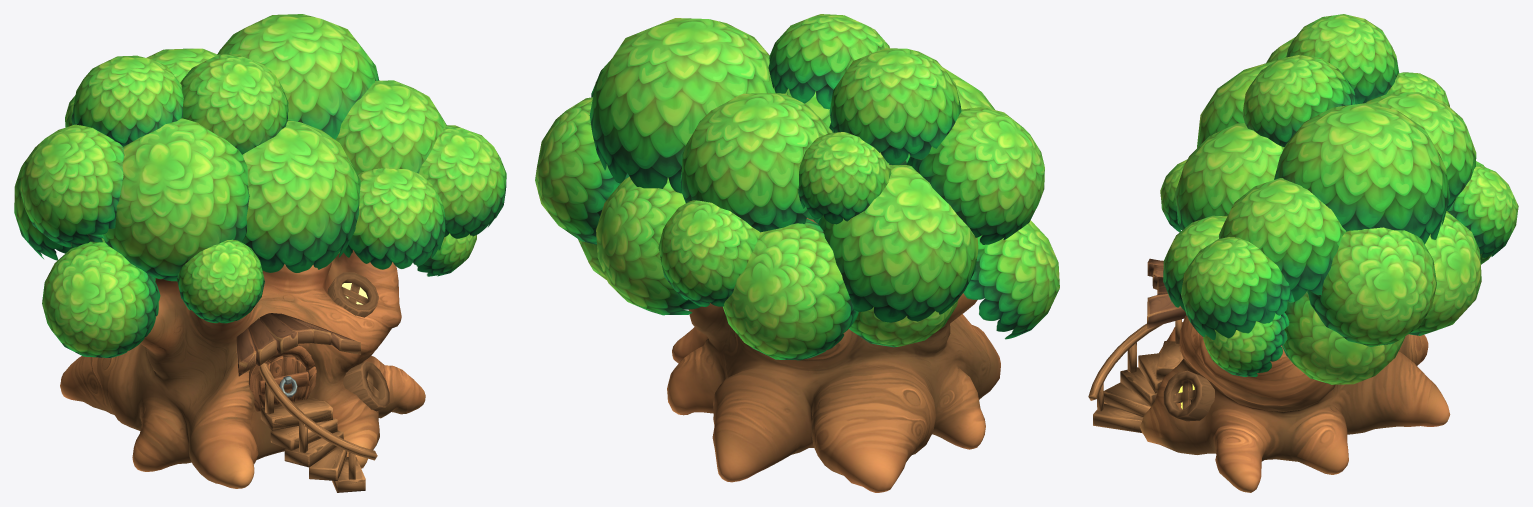
File: treehouse.glb
3 views of the same model, side by side, from view 1: azimuth 30°, elevation 25°; view 2: azimuth 150°, elevation 25°; view 3: azimuth 270°, elevation 25° (orthographic). The views are drawn at different scales.
Parts seen in each view (by area): view 1: Object_7, Object_3, Object_6, Object_2, Object_8, Object_5; view 2: Object_7, Object_3; view 3: Object_7, Object_3, Object_6, Object_8, Object_2.
Boxes of the visible parts, x1=… form: Object_7: x1=14, y1=14, x2=506, y2=357; Object_3: x1=60, y1=250, x2=425, y2=488; Object_6: x1=259, y1=363, x2=377, y2=492; Object_2: x1=236, y1=313, x2=360, y2=376; Object_8: x1=327, y1=272, x2=389, y2=411; Object_5: x1=248, y1=345, x2=316, y2=411; Object_7: x1=535, y1=14, x2=1059, y2=360; Object_3: x1=667, y1=218, x2=1000, y2=492; Object_7: x1=1160, y1=14, x2=1518, y2=384; Object_3: x1=1139, y1=315, x2=1450, y2=492; Object_6: x1=1088, y1=319, x2=1183, y2=432; Object_8: x1=1163, y1=326, x2=1214, y2=421; Object_2: x1=1147, y1=258, x2=1186, y2=329.
Bounding box in the file's own units: 18.42 × 15.3 × 16.34.
7 materials, 6 textured.
